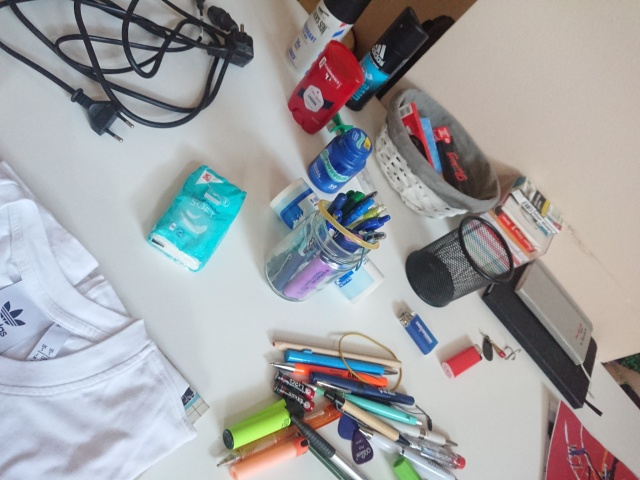Solana Pag Fine Sea Salt 250g: (267, 175, 388, 308)
